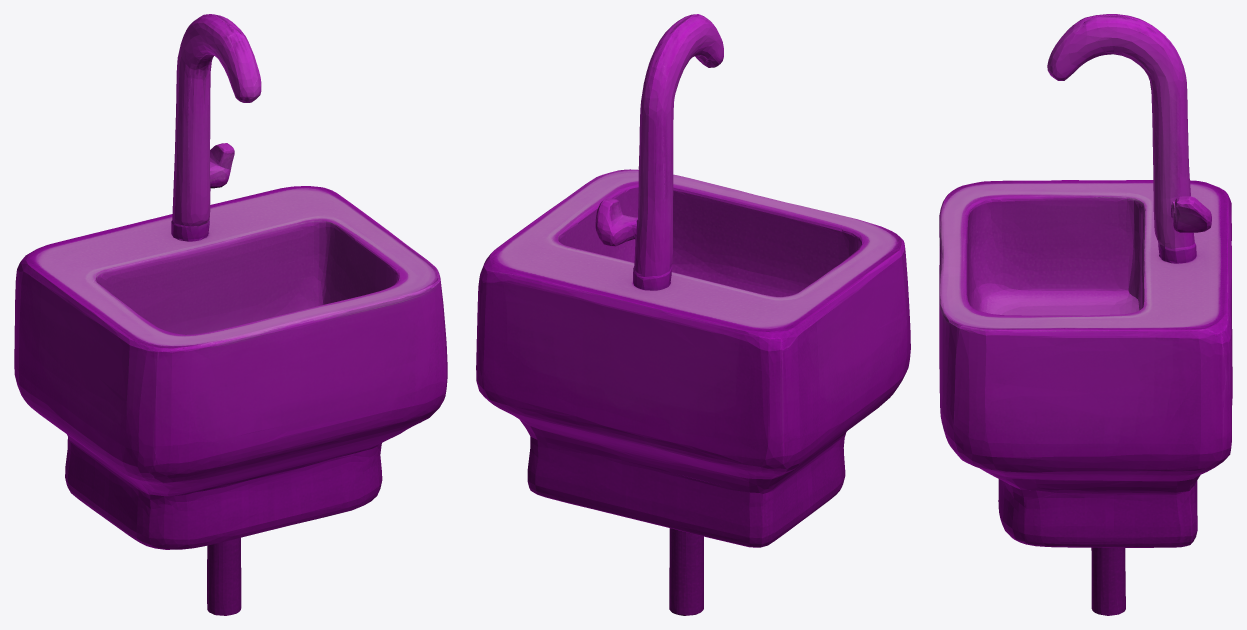
3 views of the same model, side by side, from view 1: azimuth 30°, elevation 25°; view 2: azimuth 150°, elevation 25°; view 3: azimuth 270°, elevation 25° (orthographic).
Parts seen in each view (by area): view 1: world; view 2: world; view 3: world.
Boxes of the visible parts, bbox=[...] form: world: bbox=[14, 14, 447, 615]; world: bbox=[476, 14, 910, 615]; world: bbox=[939, 14, 1232, 615].
Size of the model in its own units: 56.85 by 100 by 44.83.
1 material, 1 textured.
